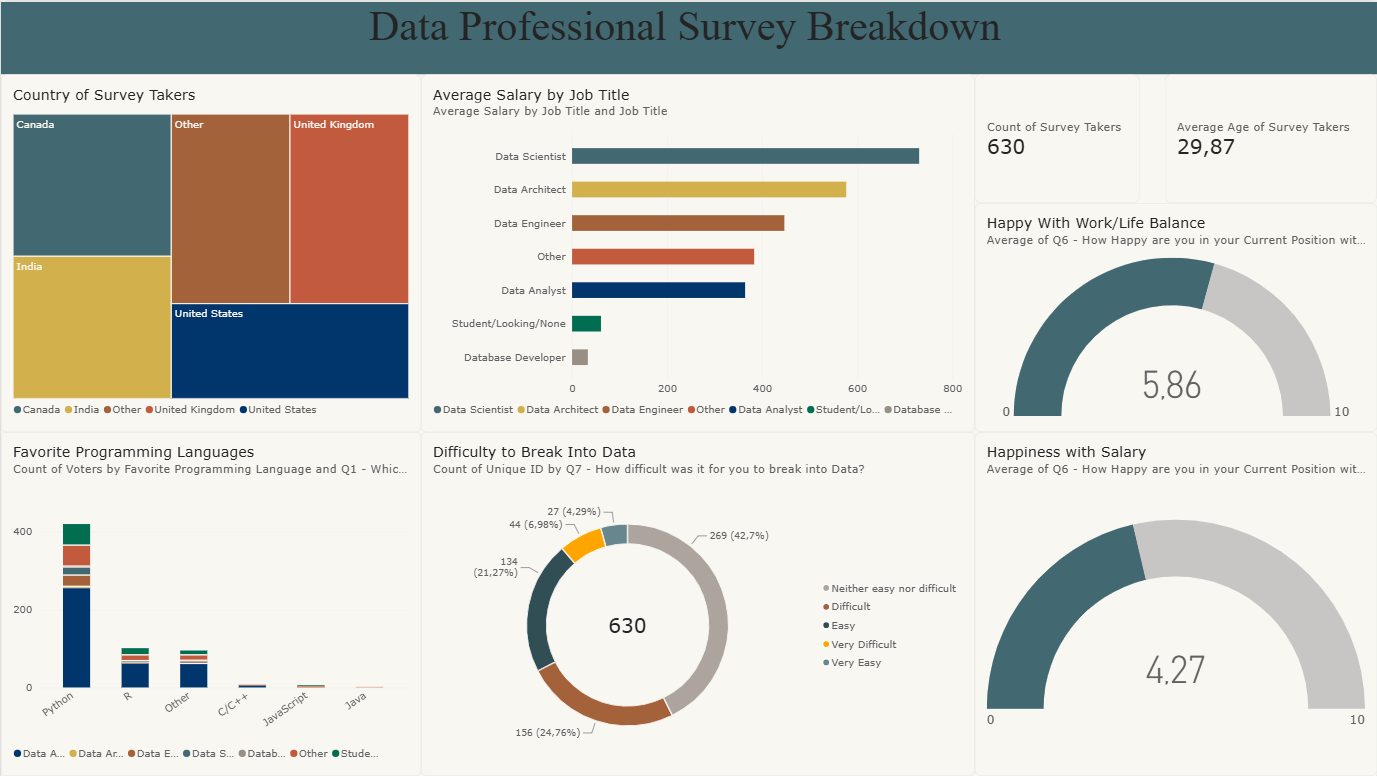

This screenshot's page, from the dashboard's own definition file:
{"tool":"powerbi","page":{"name":"Page 1","canvas":[1920,1080],"ordinal":0},"visuals":[{"type":"textbox","box":[10,0,1910,102],"z":0},{"type":"cardVisual","fields":{"Data":["CountNonNull(Data Professional Survey.Unique ID)"]},"box":[1255,101.7,295,180],"z":1000},{"type":"cardVisual","fields":{"Data":["Avg(Data Professional Survey.Q10 - Current Age)"]},"box":[1550,101.7,356.7,180],"z":2000},{"type":"barChart","title":"Average Salary by Job Title","fields":{"Category":["Data Professional Survey.Q1 - Which Title Best Fits your Current Role?.1"],"Y":["Avg(Data Professional Survey.Average Salary)"],"Series":["Data Professional Survey.Q1 - Which Title Best Fits your Current Role?.1"]},"box":[586,102,670,518],"z":3000},{"type":"columnChart","title":"Favorite Programming Languages","fields":{"Category":["Data Professional Survey.Q5 - Favorite Programming Language.1"],"Y":["CountNonNull(Data Professional Survey.Unique ID)"],"Series":["Data Professional Survey.Q1 - Which Title Best Fits your Current Role?.1"]},"box":[0,540,586,540],"z":4000},{"type":"treemap","title":"Country of Survey Takers","fields":{"Group":["Data Professional Survey.Q11 - Which Country do you live in?.1"],"Values":["Count(Data Professional Survey.Q11 - Which Country do you live in?.1)"]},"box":[10,102,554,438],"z":5000},{"type":"gauge","title":"Happy With Work/Life Balance","fields":{"Y":["Avg(Data Professional Survey.Q6 - How Happy are you in your Current Position with the following? (Coworkers))"],"MinValue":["Min(Data Professional Survey.Q6 - How Happy are you in your Current Position with the following? (Learning New Things))"],"MaxValue":["Max(Data Professional Survey.Q6 - How Happy are you in your Current Position with the following? (Management))"]},"box":[1256,296,458,304],"z":6000},{"type":"gauge","title":"Happiness with Salary","fields":{"Y":["Avg(Data Professional Survey.Q6 - How Happy are you in your Current Position with the following? (Salary))"],"MinValue":["Min(Data Professional Survey.Q6 - How Happy are you in your Current Position with the following? (Upward Mobility))"],"MaxValue":["Max(Data Professional Survey.Q6 - How Happy are you in your Current Position with the following? (Work/Life Balance))"]},"box":[1268,600,446,446],"z":7000},{"type":"donutChart","title":"Difficulty to Break Into Data","fields":{"Y":["Sum(Data Professional Survey.Average Salary)"],"Category":["Data Professional Survey.Q7 - How difficult was it for you to break into Data?"]},"box":[586,620,670,460],"z":7001}]}

Visuals, with their boxes in screenshot pixels (x1, y1, x2, y2), scaled from the page's 1920x1080 canvas onto the 1377x776 screenshot:
textbox: select_region(7, 0, 1376, 73)
cardVisual - CountNonNull(Data Professional Survey.Unique ID): select_region(900, 73, 1112, 202)
cardVisual - Avg(Data Professional Survey.Q10 - Current Age): select_region(1112, 73, 1367, 202)
"Average Salary by Job Title" barChart: select_region(420, 73, 901, 445)
"Favorite Programming Languages" columnChart: select_region(0, 388, 420, 775)
"Country of Survey Takers" treemap: select_region(7, 73, 404, 388)
"Happy With Work/Life Balance" gauge: select_region(901, 213, 1229, 431)
"Happiness with Salary" gauge: select_region(909, 431, 1229, 752)
"Difficulty to Break Into Data" donutChart: select_region(420, 445, 901, 775)
